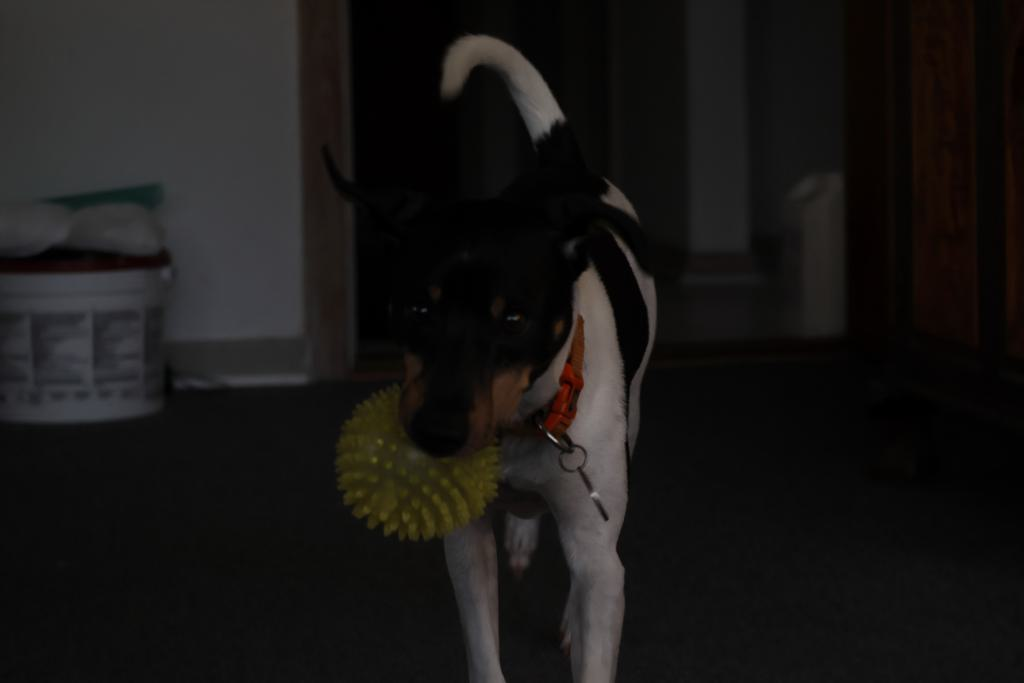Dog: (313, 26, 661, 683)
